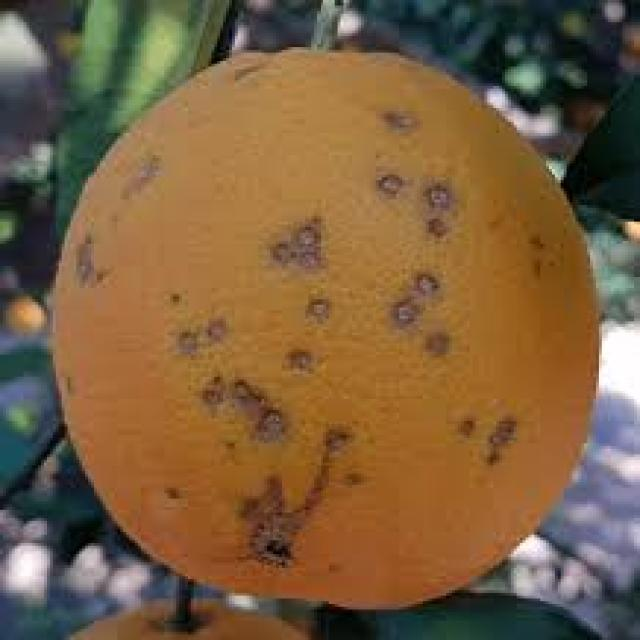black spot: (46, 32, 614, 608)
